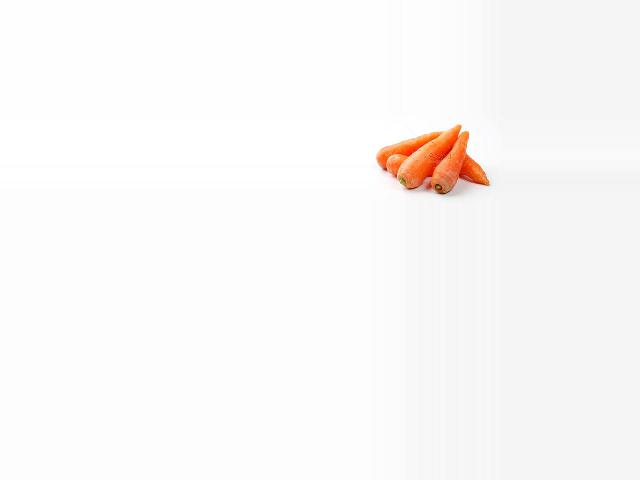carrot: (430, 132, 470, 194)
